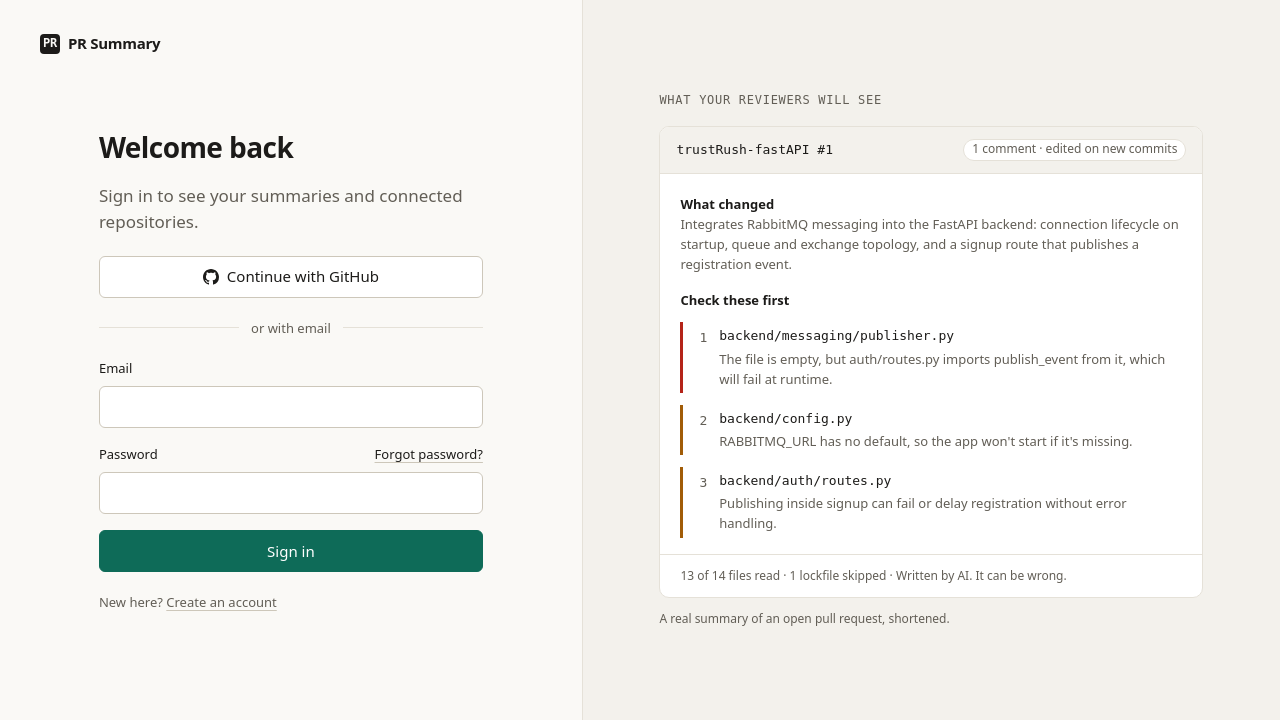
Test case: Log in › explains rate limiting
Expected: the heading "Welcome back" is shown, [99,128,293,166]
Type "ravi@example.com" into the field labelled "Email" at (291, 407), box [99,386,483,428]
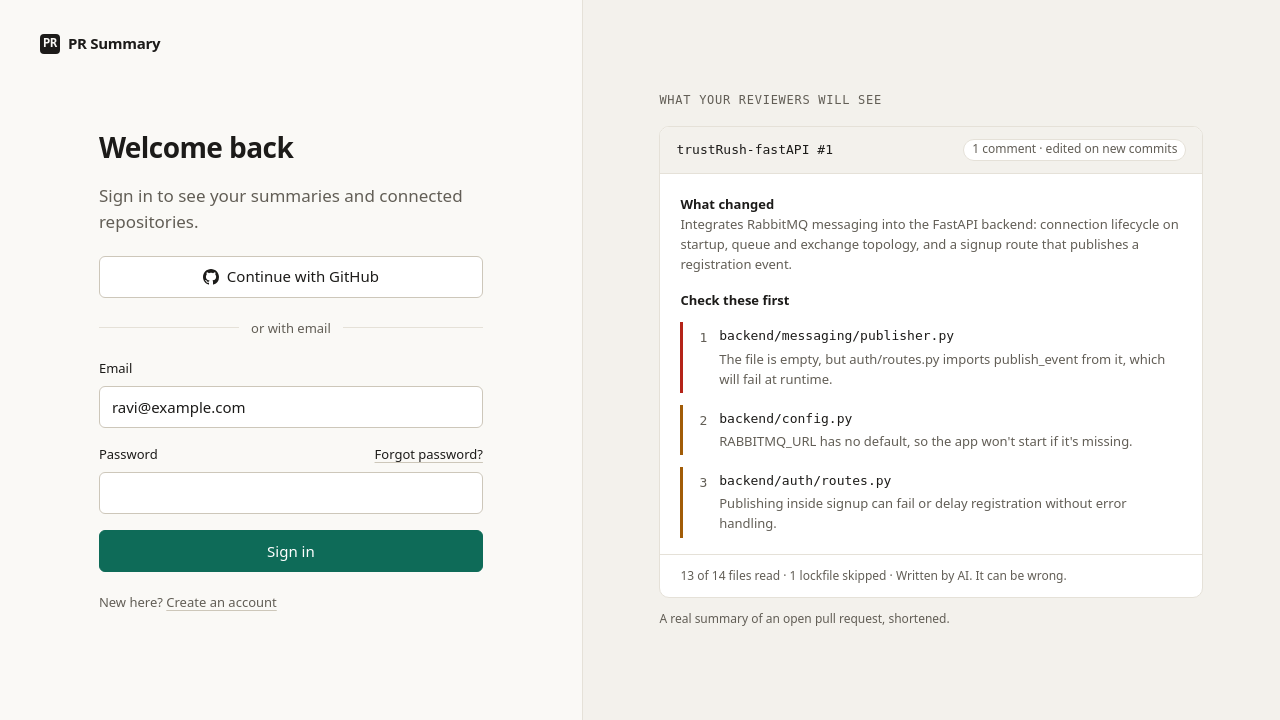
Type "whatever123" into the password field labelled "Password" at (291, 493), box [99,472,483,514]
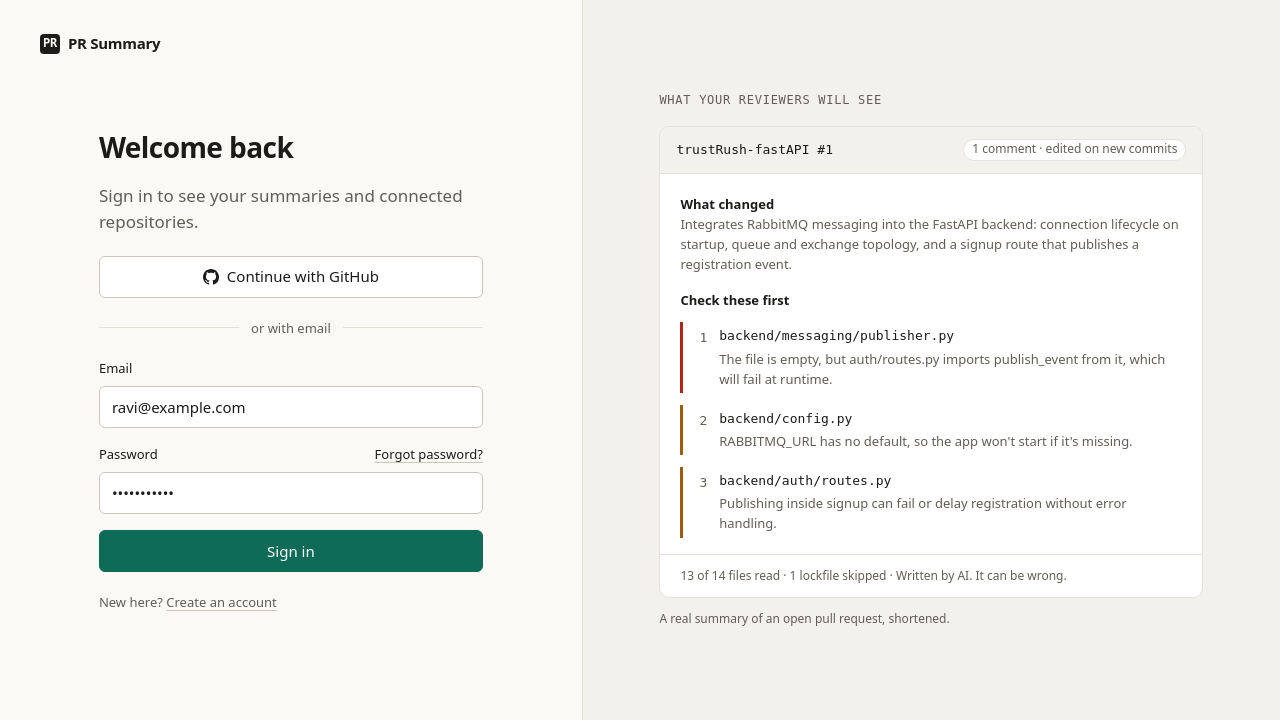
Click the button "Sign in" at (291, 551), box [99,530,483,572]
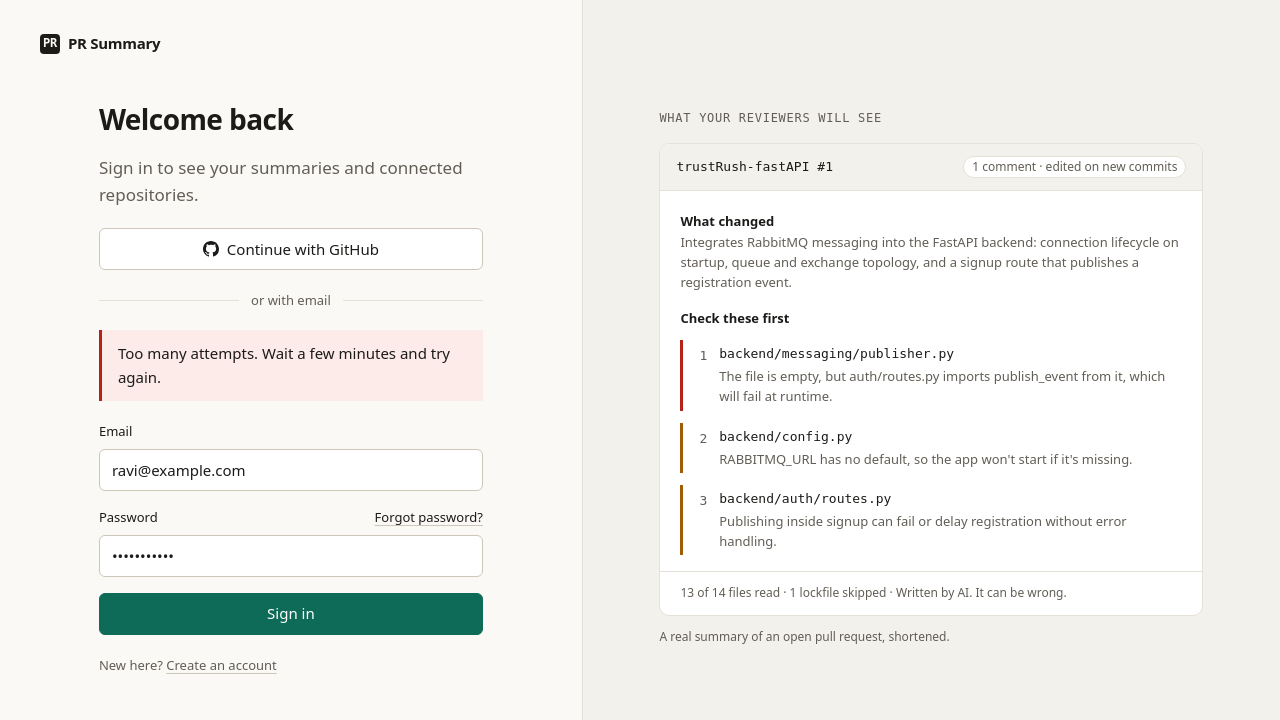
Now the text "Too many attempts. Wait a few minutes and try again." is shown, box [118,342,467,389]
